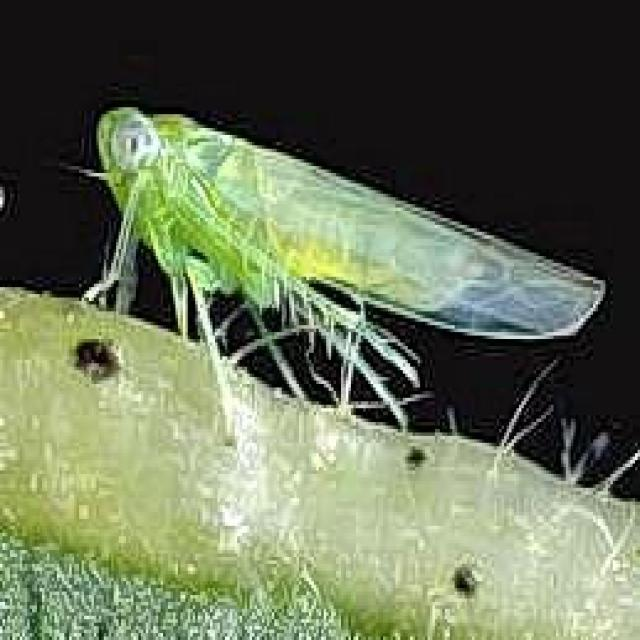Yechan: (48, 78, 623, 419)
